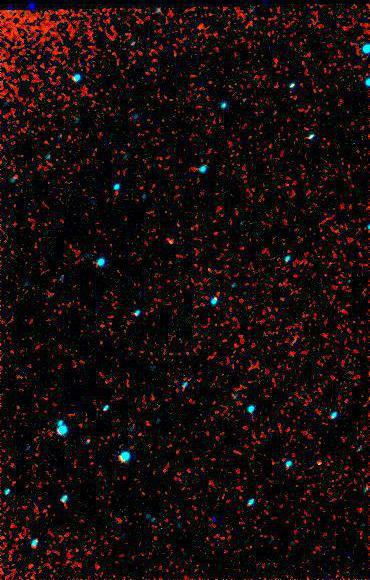star: (185, 13, 215, 43)
